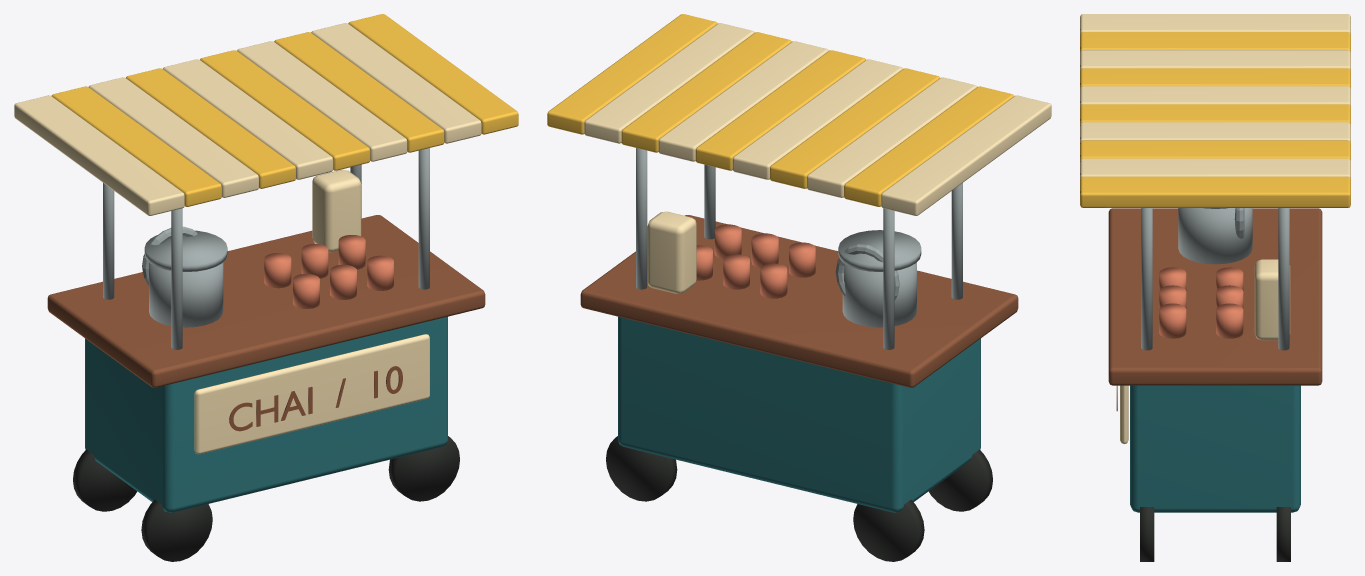
File: chai-cart.glb
The picture shows the model from 3 angles, left to right: view 1: azimuth 30°, elevation 25°; view 2: azimuth 150°, elevation 25°; view 3: azimuth 270°, elevation 25°; orthographic projection.
Parts seen in each view (by area): view 1: chai-cart / Shop canvas, chai-cart / Tea stall wood, chai-cart / Midnight teal, chai-cart / Saffron, chai-cart / Brushed metal, chai-cart / Rubber, chai-cart / Sunlit terracotta; view 2: chai-cart / Midnight teal, chai-cart / Shop canvas, chai-cart / Tea stall wood, chai-cart / Saffron, chai-cart / Brushed metal, chai-cart / Rubber, chai-cart / Sunlit terracotta; view 3: chai-cart / Saffron, chai-cart / Shop canvas, chai-cart / Tea stall wood, chai-cart / Midnight teal, chai-cart / Brushed metal, chai-cart / Sunlit terracotta, chai-cart / Rubber.
Boxes of the visible parts, left/top/right/bottom form: chai-cart / Shop canvas: left=14, top=23, right=481, bottom=454; chai-cart / Tea stall wood: left=47, top=215, right=485, bottom=431; chai-cart / Midnight teal: left=85, top=316, right=447, bottom=512; chai-cart / Saffron: left=51, top=14, right=518, bottom=206; chai-cart / Brushed metal: left=103, top=148, right=429, bottom=349; chai-cart / Rubber: left=73, top=436, right=459, bottom=561; chai-cart / Sunlit terracotta: left=264, top=235, right=393, bottom=308; chai-cart / Midnight teal: left=618, top=316, right=980, bottom=512; chai-cart / Shop canvas: left=584, top=23, right=1051, bottom=293; chai-cart / Tea stall wood: left=580, top=215, right=1018, bottom=387; chai-cart / Saffron: left=547, top=14, right=1014, bottom=206; chai-cart / Brushed metal: left=636, top=148, right=962, bottom=349; chai-cart / Rubber: left=606, top=436, right=992, bottom=561; chai-cart / Sunlit terracotta: left=696, top=224, right=815, bottom=298; chai-cart / Saffron: left=1080, top=32, right=1350, bottom=207; chai-cart / Shop canvas: left=1080, top=14, right=1350, bottom=443; chai-cart / Tea stall wood: left=1108, top=208, right=1322, bottom=411; chai-cart / Midnight teal: left=1130, top=385, right=1300, bottom=512; chai-cart / Brushed metal: left=1141, top=208, right=1289, bottom=350; chai-cart / Sunlit terracotta: left=1159, top=267, right=1243, bottom=338; chai-cart / Rubber: left=1140, top=507, right=1290, bottom=561.
Bounding box in the file's own units: 3 × 3.06 × 1.9.
